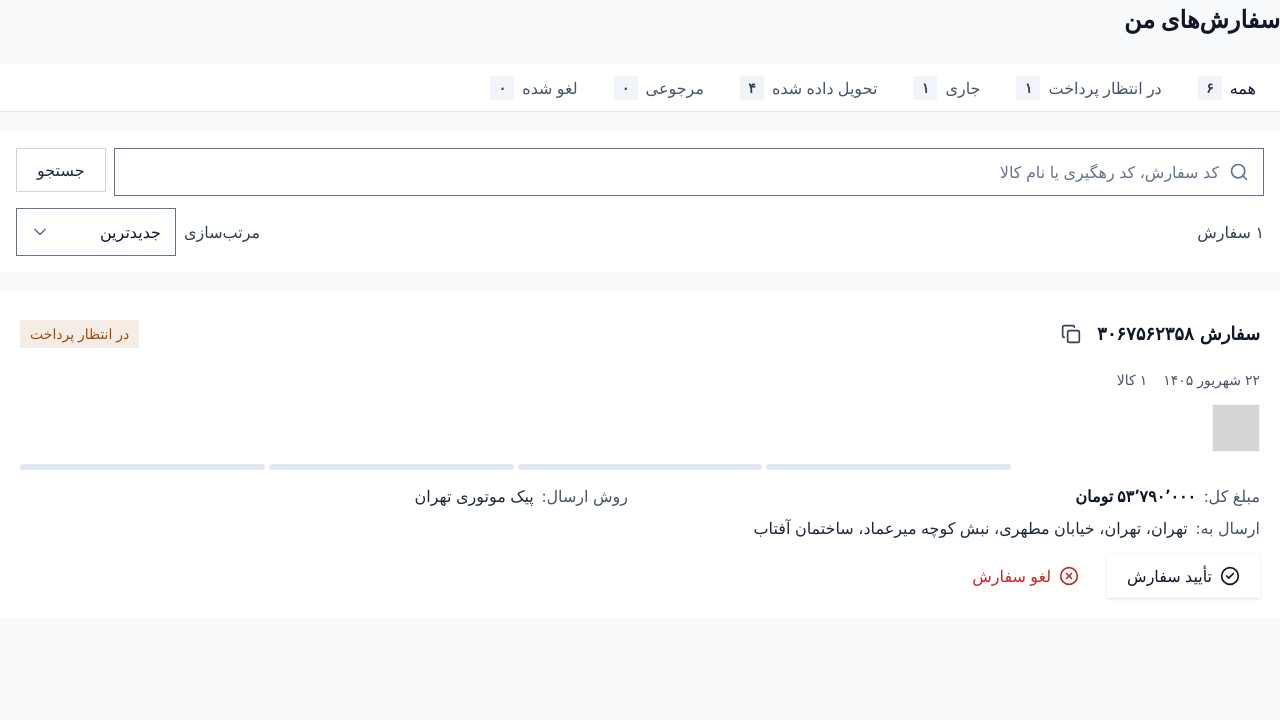
the card actions › «تأیید سفارش» for a pure pay-on-delivery order awaiting its confirmation
Click the button "تأیید سفارش" at (1184, 576), box [1107, 554, 1260, 598]
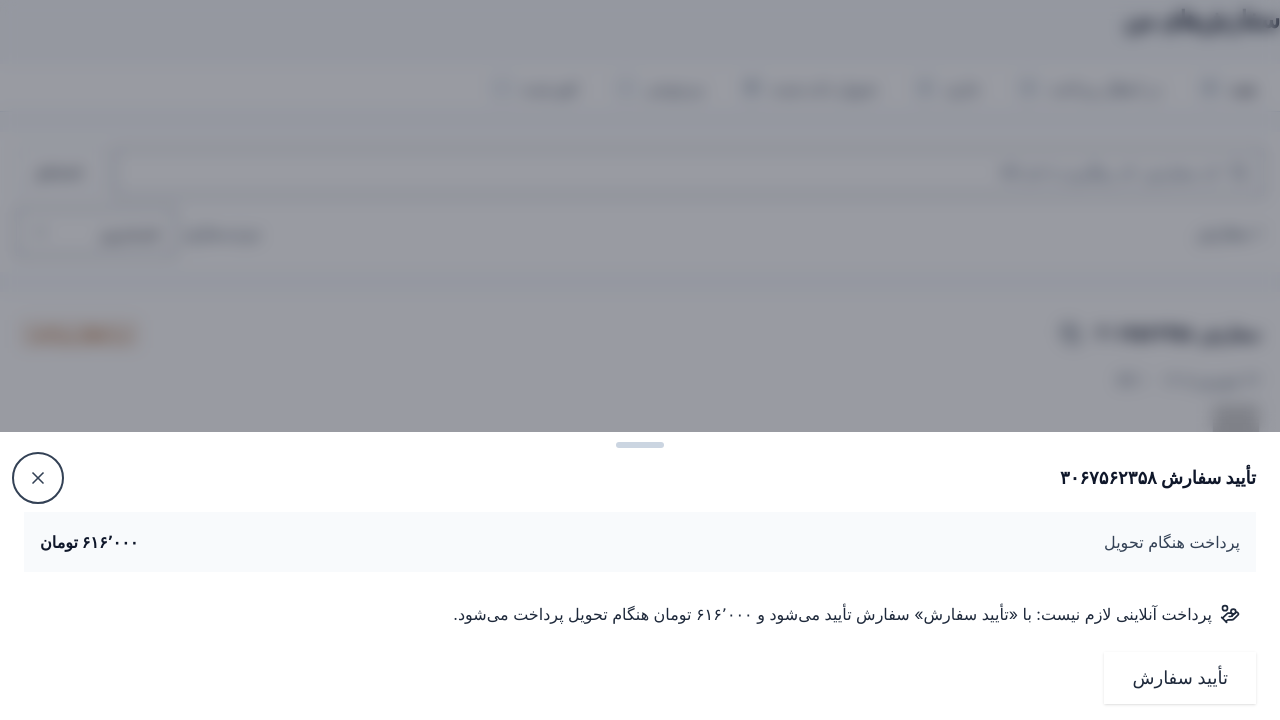
Result: the button "تأیید سفارش" is shown at [1104, 652, 1256, 704]
Result: the text "هنگام تحویل پرداخت می" is shown once at [453, 600, 1212, 628]
